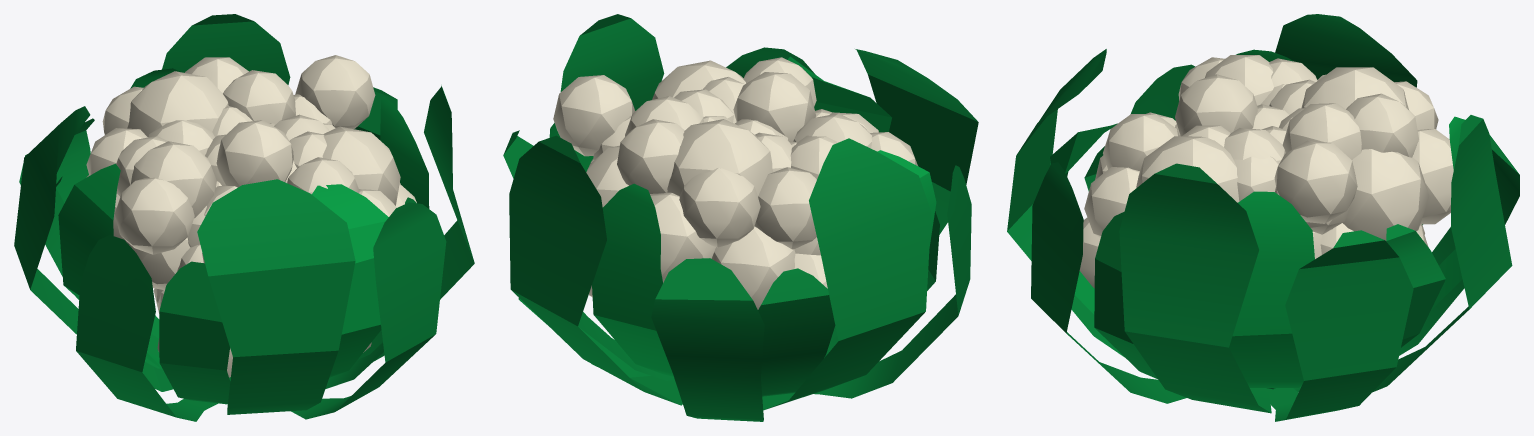
Rendered from coliflor 1 (1).fbx.
3 renders of one model, left to right at view 1: azimuth 30°, elevation 25°; view 2: azimuth 150°, elevation 25°; view 3: azimuth 270°, elevation 25°, orthographic. The views are drawn at different scales.
Parts seen in each view (by area): view 1: Icosphere.002; view 2: Icosphere.002; view 3: Icosphere.002.
Part boxes in pixels (x1,y1,x2,y2): Icosphere.002: [14, 14, 474, 421]; Icosphere.002: [503, 14, 978, 421]; Icosphere.002: [1007, 14, 1519, 421].
Size of the model in its own units: 236 by 161 by 250.
